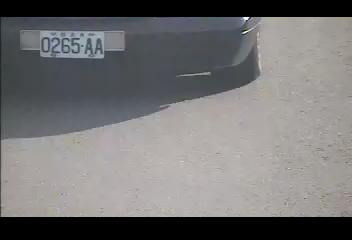plate: (39, 29, 105, 60)
